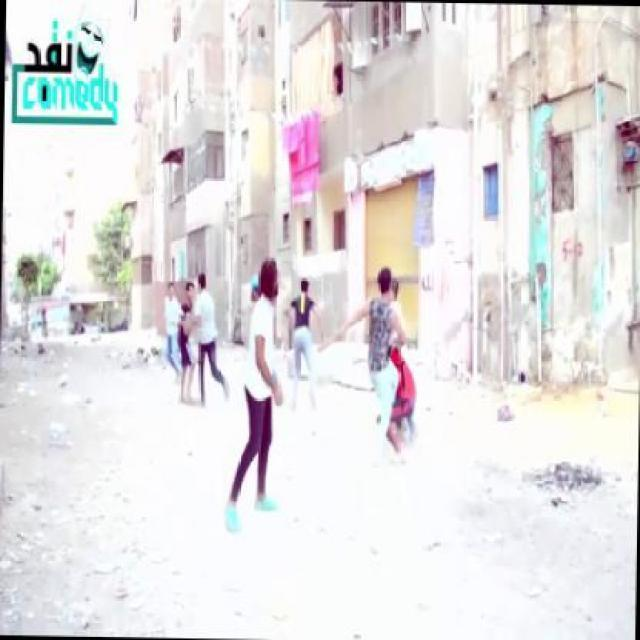fight: (354, 256, 422, 461)
non-fight: (233, 257, 281, 517), (172, 266, 222, 411), (282, 267, 324, 421), (158, 278, 184, 373)
